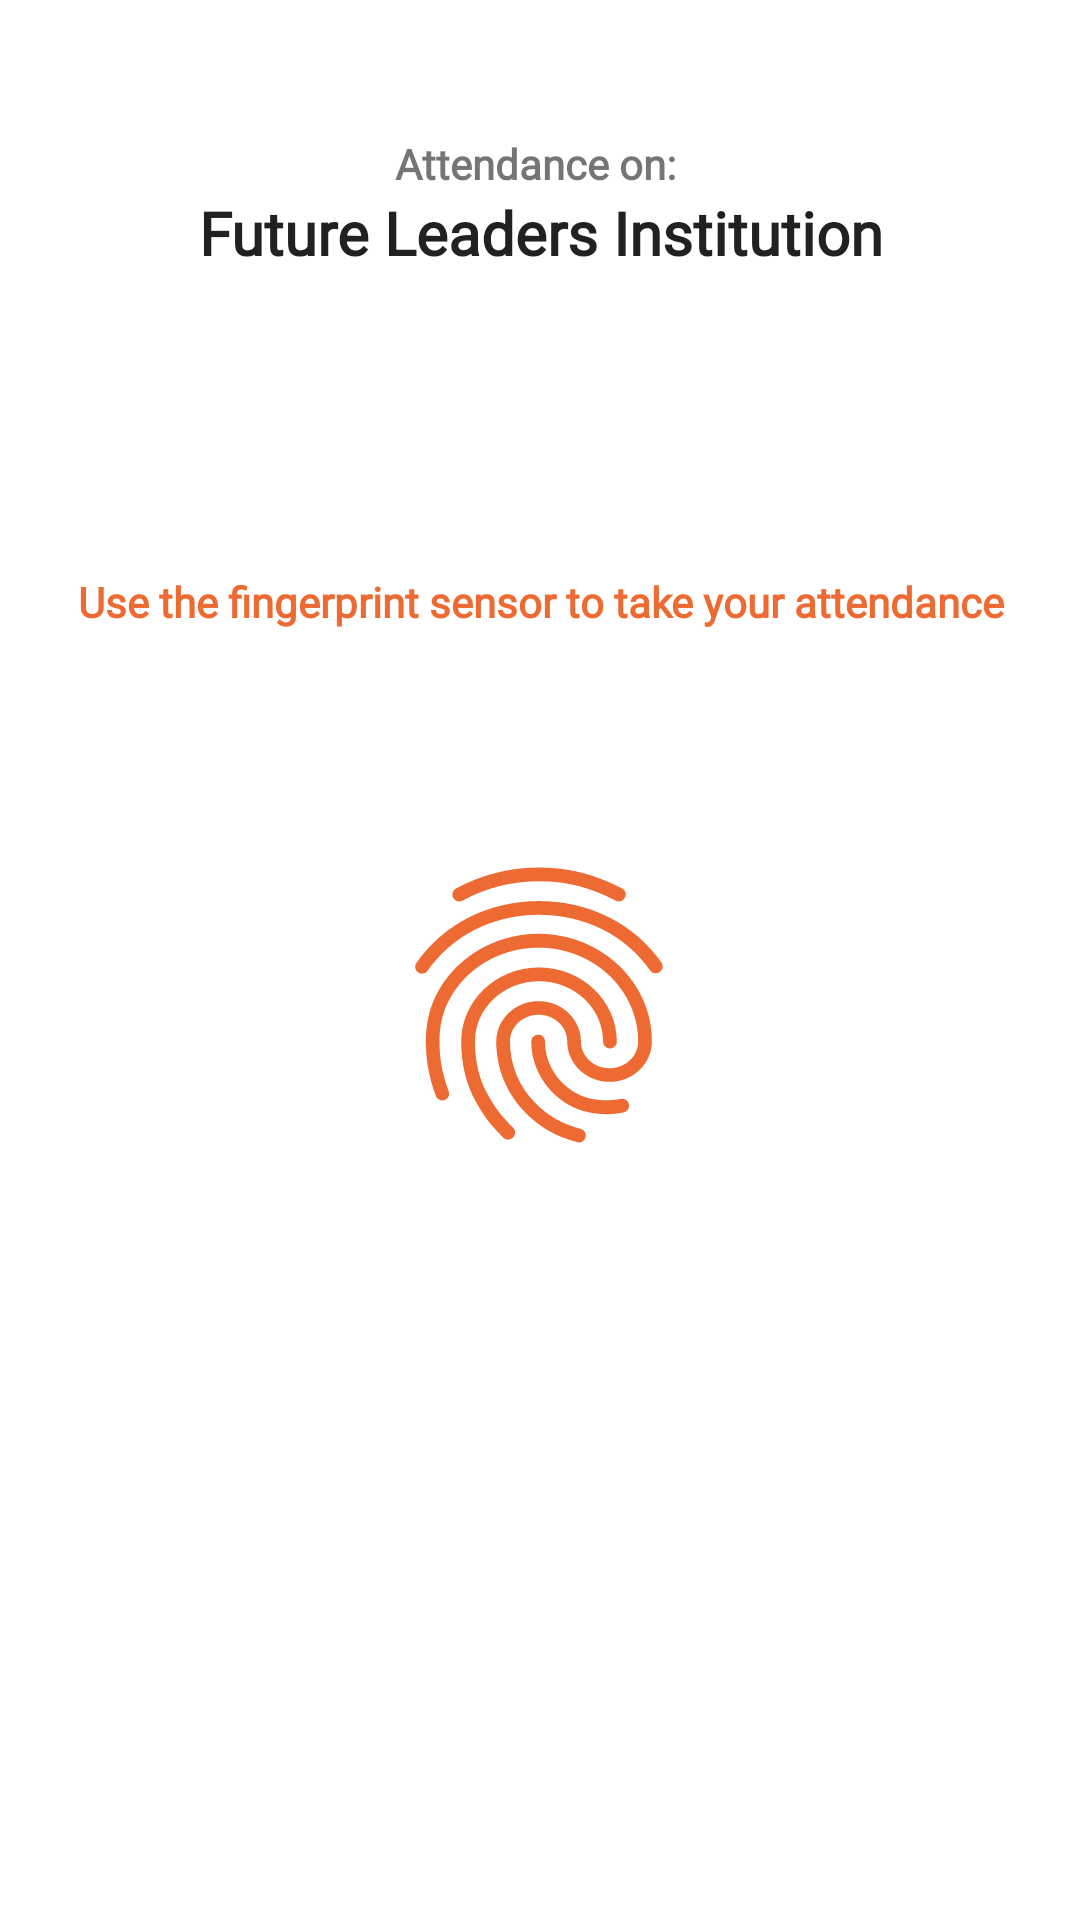

Icon bounding boxes for this 1080 × 1920 phone screenshot, format Rect(x1, y1, x2, y2):
fingerprint: Rect(415, 867, 663, 1143)
